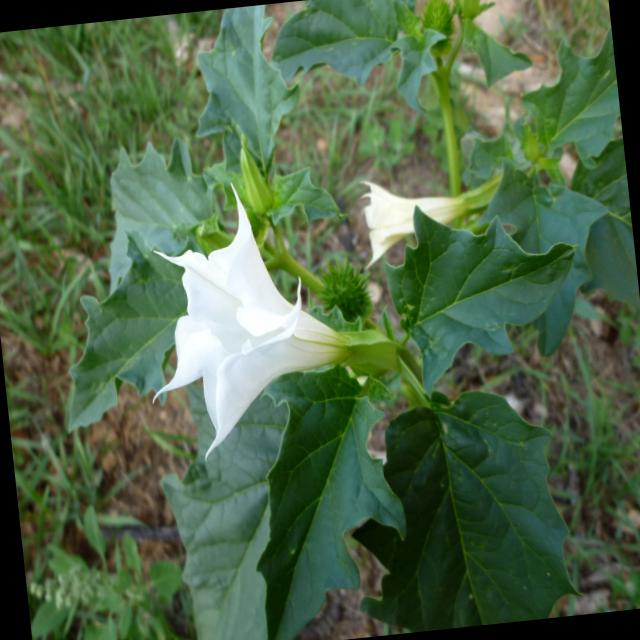Poisonous-Datura_Stramonium: (131, 132, 564, 468), (352, 360, 592, 636)
